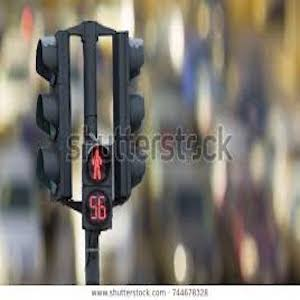red: (86, 145, 109, 186)
